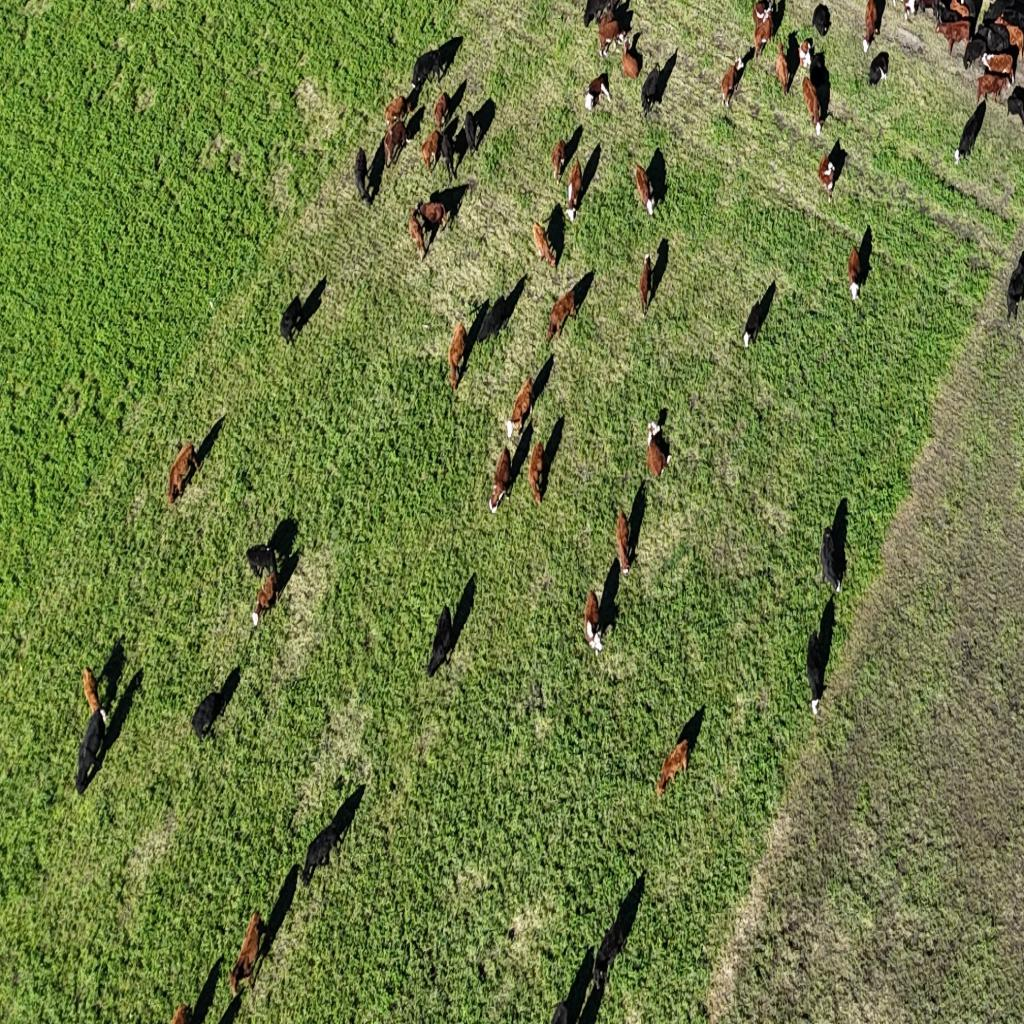cow: (228, 911, 266, 995), (75, 709, 107, 795), (592, 916, 625, 994), (425, 602, 455, 681), (301, 824, 338, 886), (955, 97, 986, 168), (167, 442, 199, 503), (507, 374, 537, 439), (806, 630, 828, 718), (657, 740, 688, 800), (820, 524, 844, 595), (190, 690, 222, 741), (412, 45, 448, 90), (547, 289, 576, 344), (252, 570, 278, 629), (490, 444, 512, 513), (478, 293, 508, 343), (646, 425, 671, 485), (634, 157, 658, 218), (448, 322, 467, 396), (935, 16, 970, 56), (1006, 246, 1024, 322), (976, 70, 1011, 109), (721, 56, 745, 112), (583, 590, 604, 654), (416, 198, 448, 240), (245, 544, 279, 583), (279, 293, 304, 346), (802, 72, 822, 138), (384, 119, 410, 169), (532, 221, 557, 272), (615, 508, 633, 578), (528, 439, 546, 508), (640, 62, 662, 118), (565, 159, 584, 223), (752, 4, 774, 59), (583, 71, 611, 113), (742, 297, 764, 350), (353, 148, 372, 207), (863, 0, 883, 55), (817, 150, 837, 204), (82, 666, 102, 720), (409, 206, 427, 264), (384, 94, 411, 128), (622, 35, 642, 79), (639, 251, 652, 318), (583, 0, 614, 28), (849, 246, 863, 306), (775, 41, 790, 97), (867, 52, 889, 90), (464, 107, 481, 156), (439, 131, 455, 179), (434, 90, 452, 131), (421, 131, 440, 169), (983, 52, 1013, 76), (963, 38, 985, 69), (812, 2, 830, 38), (551, 138, 566, 180), (797, 38, 814, 71), (948, 0, 973, 22), (1007, 94, 1024, 125), (170, 1004, 190, 1024)
